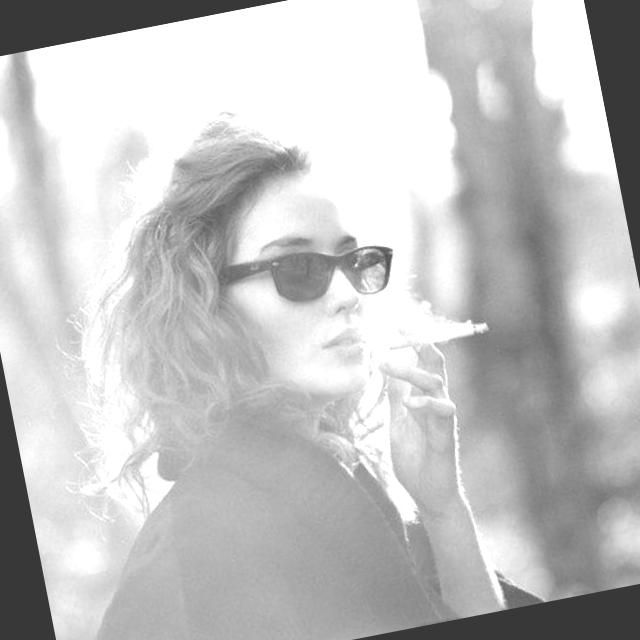cigarette: (382, 305, 510, 360)
